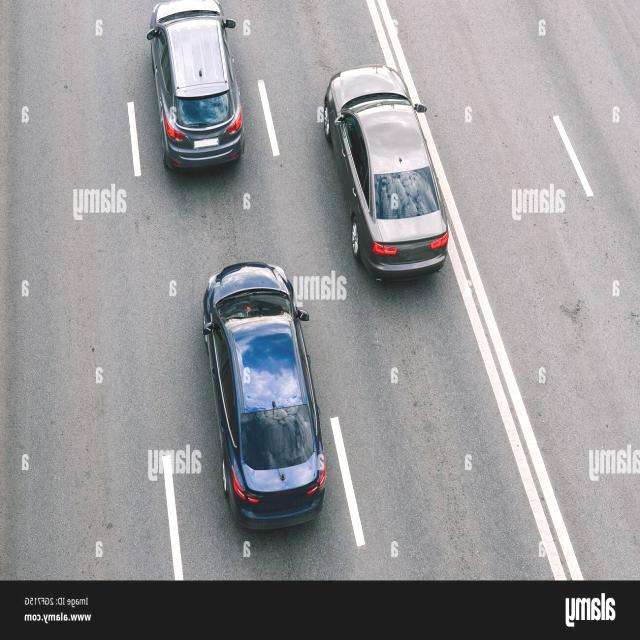Carro Azul Escuro: (195, 256, 337, 548)
Carro Cinza: (316, 64, 458, 307), (140, 0, 253, 183)
